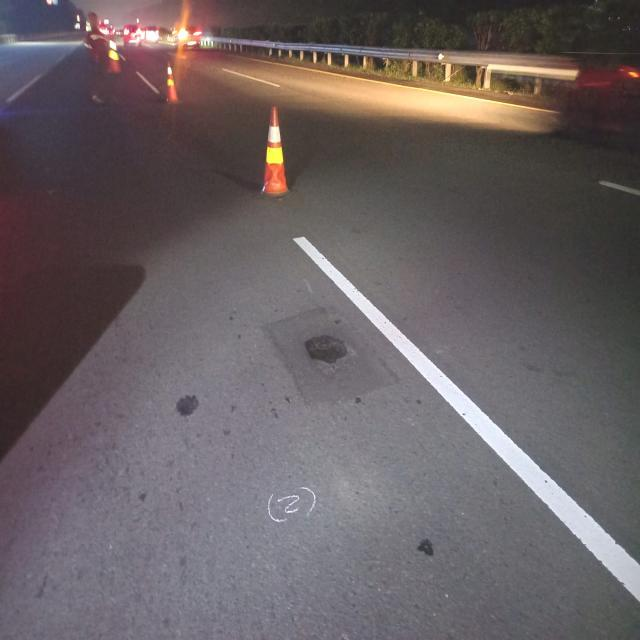Buraco: (300, 331, 352, 367), (172, 390, 204, 420)
